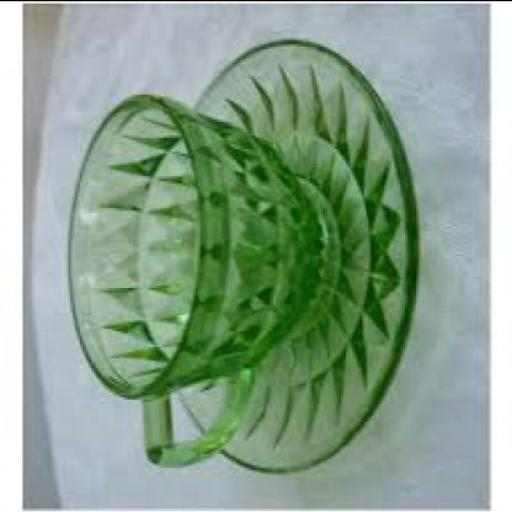glass: (166, 41, 419, 476), (66, 96, 332, 469)
